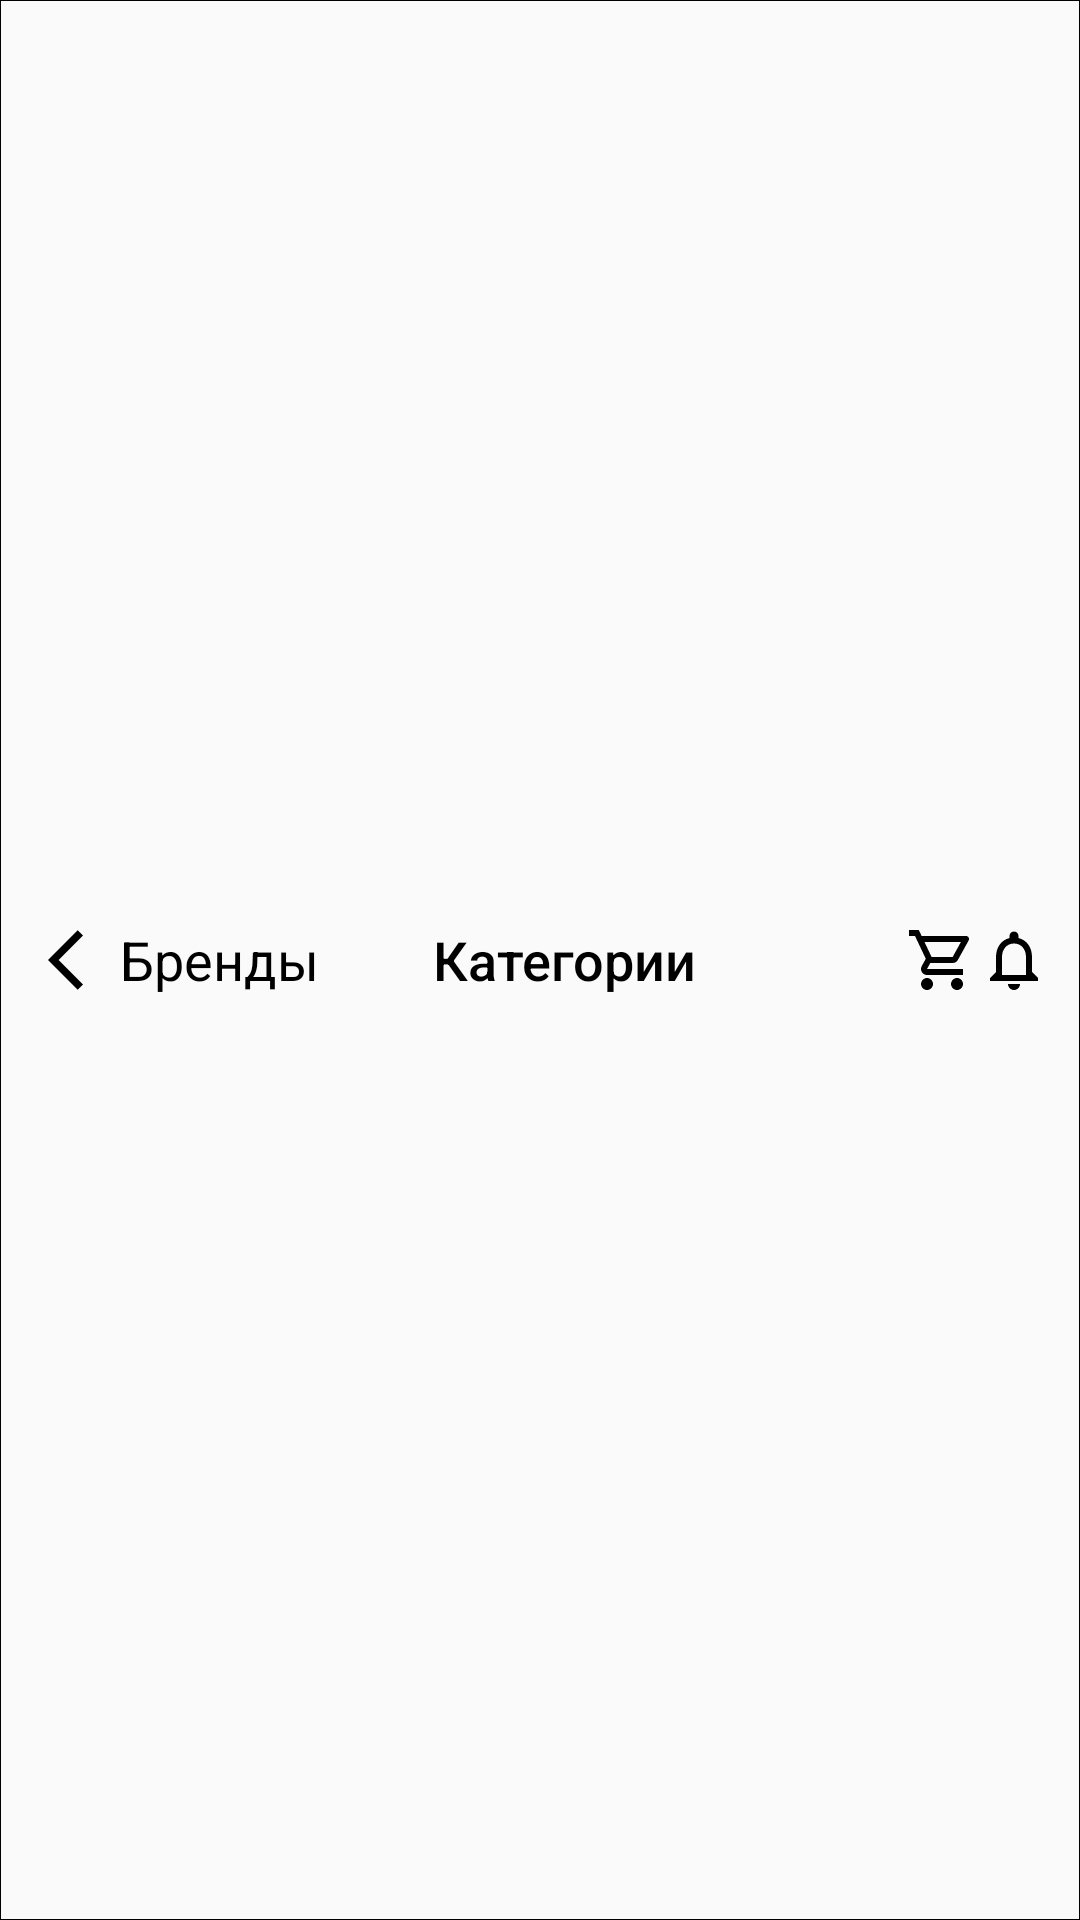

Where icons sit on this 1080px x 1920px app screen, as box(x1, y1, x2, y2):
notifications: box(990, 931, 1038, 990)
